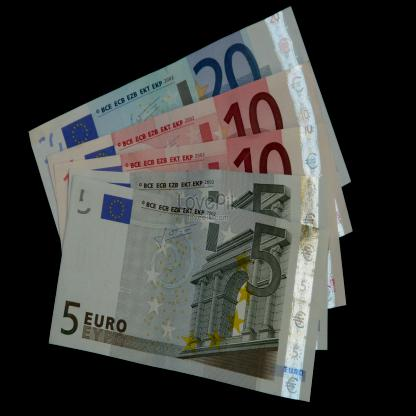euro_banknote: (37, 43, 332, 230), (61, 136, 339, 322), (52, 203, 332, 373), (47, 110, 327, 170), (70, 162, 332, 214)
